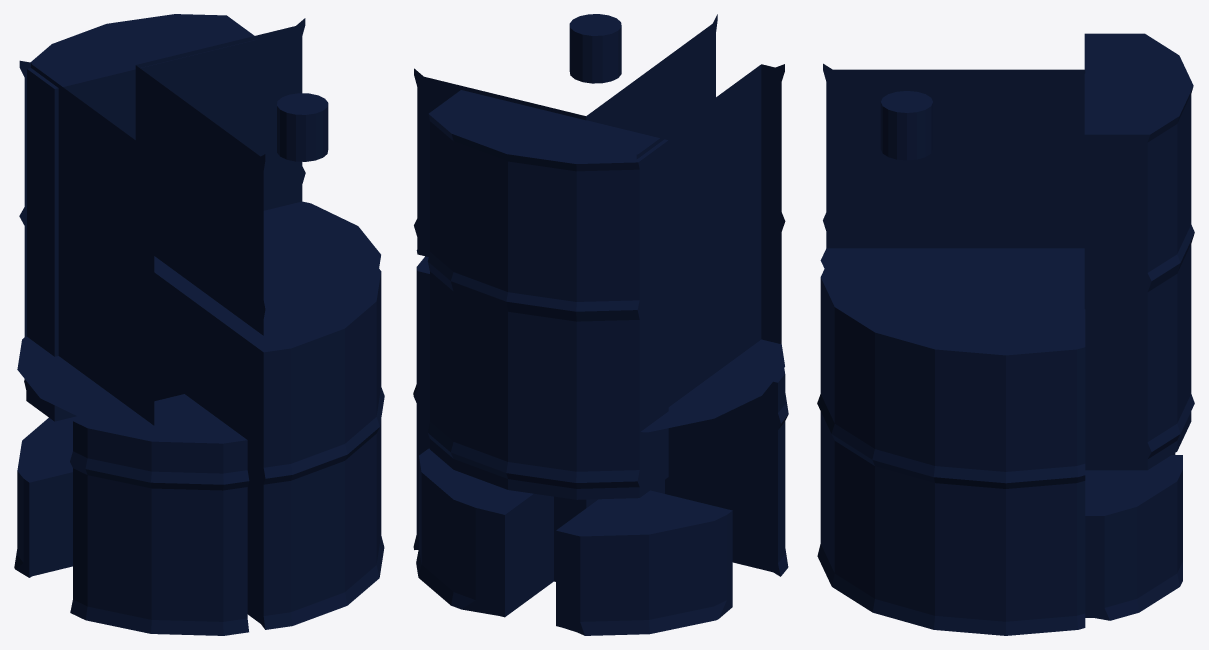
Rendered from Destroyed Blue Barrel.fbx.
3 views of the same model, side by side, from view 1: azimuth 30°, elevation 25°; view 2: azimuth 150°, elevation 25°; view 3: azimuth 270°, elevation 25° (orthographic).
Visible parts, largest first — view 1: Cube.074, Cube.078, Cube.073, Cube.079, Cube.077, Cube.075; view 2: Cube.077, Cube.079, Cube.075, Cube.076, Cube.073, Cube.078, Cube.074; view 3: Cube.074, Cube.078, Cube.077, Cube.076.
Boxes of the visible parts, x1=… form: Cube.074: x1=154, y1=256, x2=384, y2=629; Cube.078: x1=135, y1=18, x2=380, y2=335; Cube.073: x1=70, y1=394, x2=249, y2=635; Cube.079: x1=17, y1=60, x2=154, y2=430; Cube.077: x1=24, y1=14, x2=259, y2=421; Cube.075: x1=14, y1=416, x2=82, y2=577; Cube.077: x1=427, y1=90, x2=668, y2=499; Cube.079: x1=636, y1=64, x2=785, y2=432; Cube.075: x1=556, y1=490, x2=732, y2=635; Cube.076: x1=416, y1=448, x2=553, y2=617; Cube.073: x1=665, y1=368, x2=788, y2=576; Cube.078: x1=414, y1=14, x2=717, y2=256; Cube.074: x1=413, y1=256, x2=664, y2=581; Cube.074: x1=817, y1=269, x2=1085, y2=635; Cube.078: x1=820, y1=63, x2=1085, y2=338; Cube.077: x1=1084, y1=33, x2=1194, y2=470; Cube.076: x1=1085, y1=455, x2=1182, y2=620.
Bounding box in the file's own units: 231 × 328 × 233.
